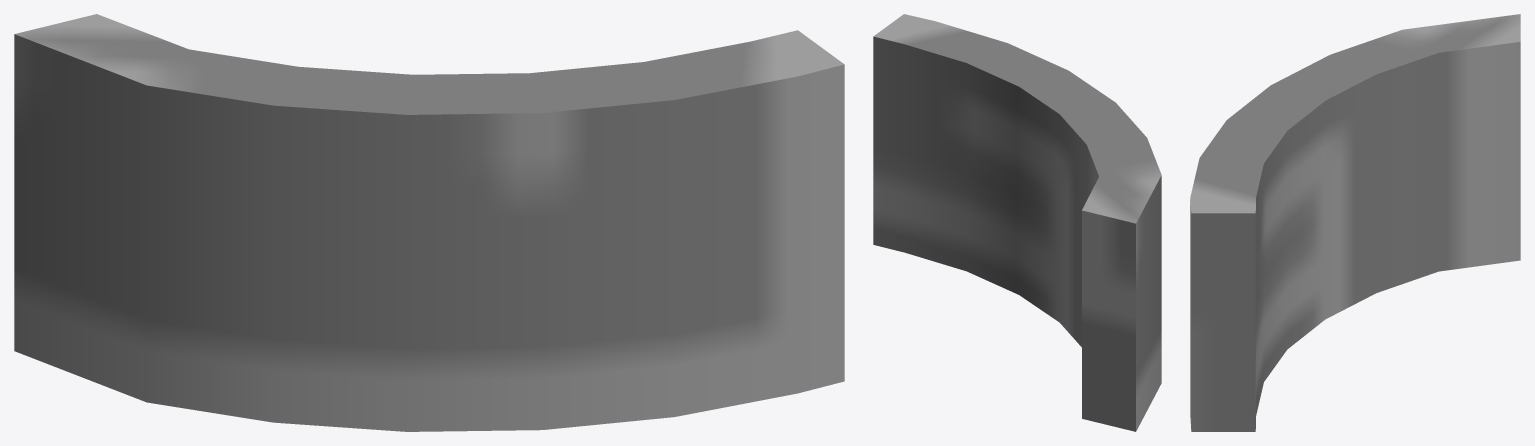
The model's file is wall_curve_01.fbx.
3 renders of one model, left to right at view 1: azimuth 30°, elevation 25°; view 2: azimuth 150°, elevation 25°; view 3: azimuth 270°, elevation 25°, orthographic. The views are drawn at different scales.
Visible parts, largest first — view 1: wall_curve_01; view 2: wall_curve_01; view 3: wall_curve_01.
Part boxes in pixels (x1,y1,x2,y2): wall_curve_01: (14, 14, 844, 431); wall_curve_01: (873, 14, 1161, 431); wall_curve_01: (1190, 14, 1520, 431).
Bounding box in the file's own units: 3006 × 1539 × 2106.
